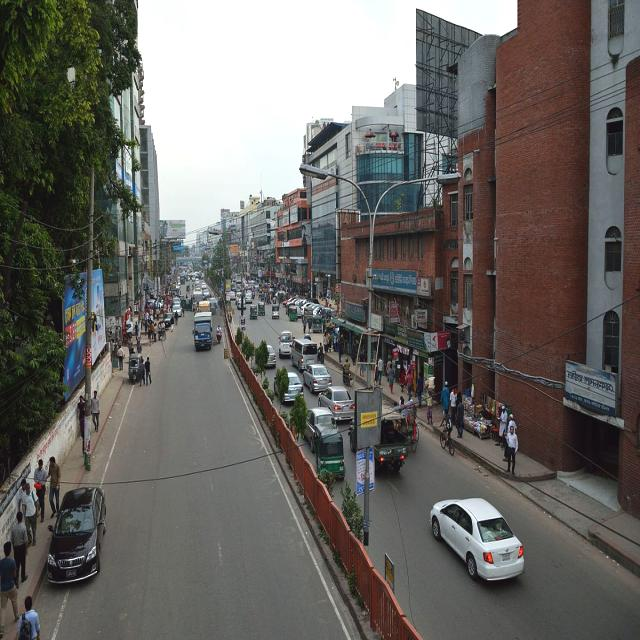maroon: (44, 485, 106, 589)
silver: (301, 408, 337, 451), (318, 386, 356, 419), (272, 371, 302, 404), (302, 365, 335, 392), (292, 339, 318, 370), (257, 345, 277, 367)
white: (430, 497, 526, 581), (278, 330, 294, 360)
